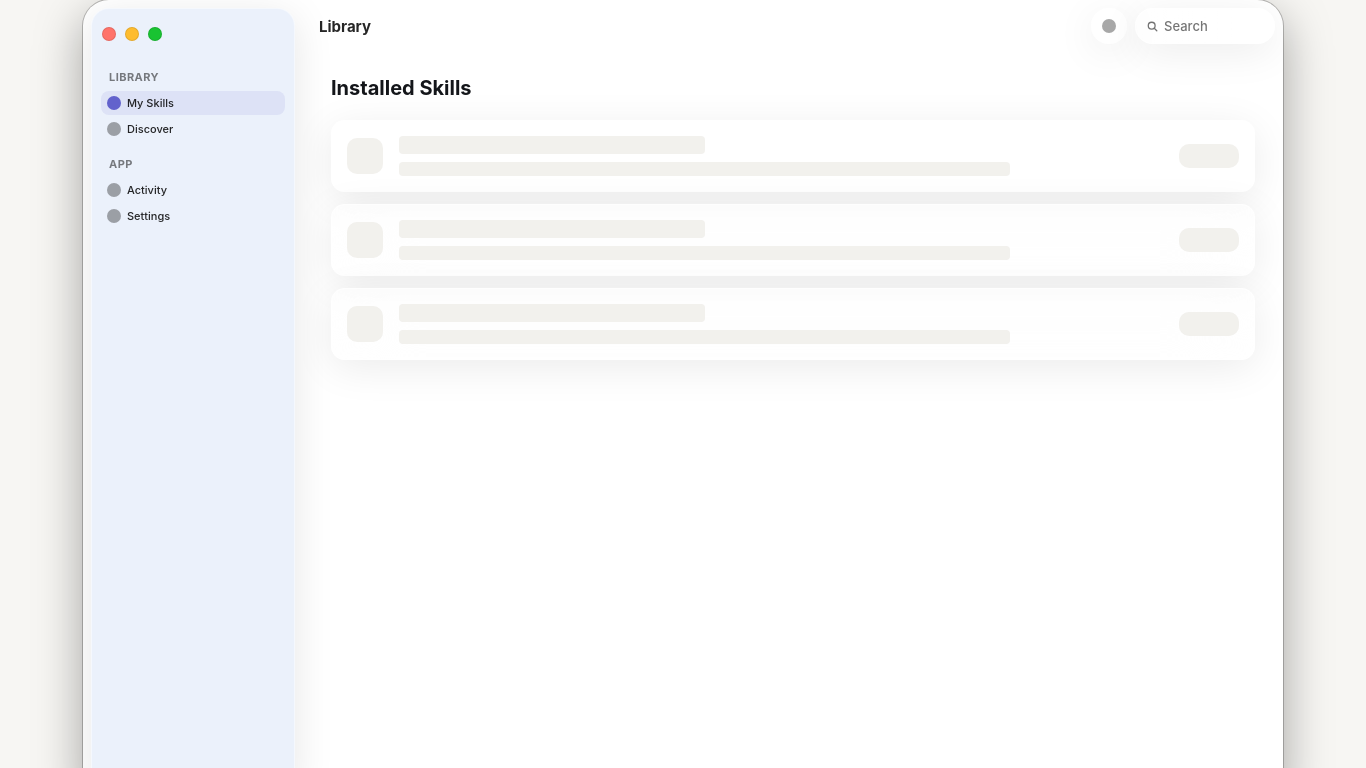
App › switches to discover view and displays registry skills
This screenshot has width=1366, height=768.
Click the button "Discover": (140, 129) [107,122,173,136]
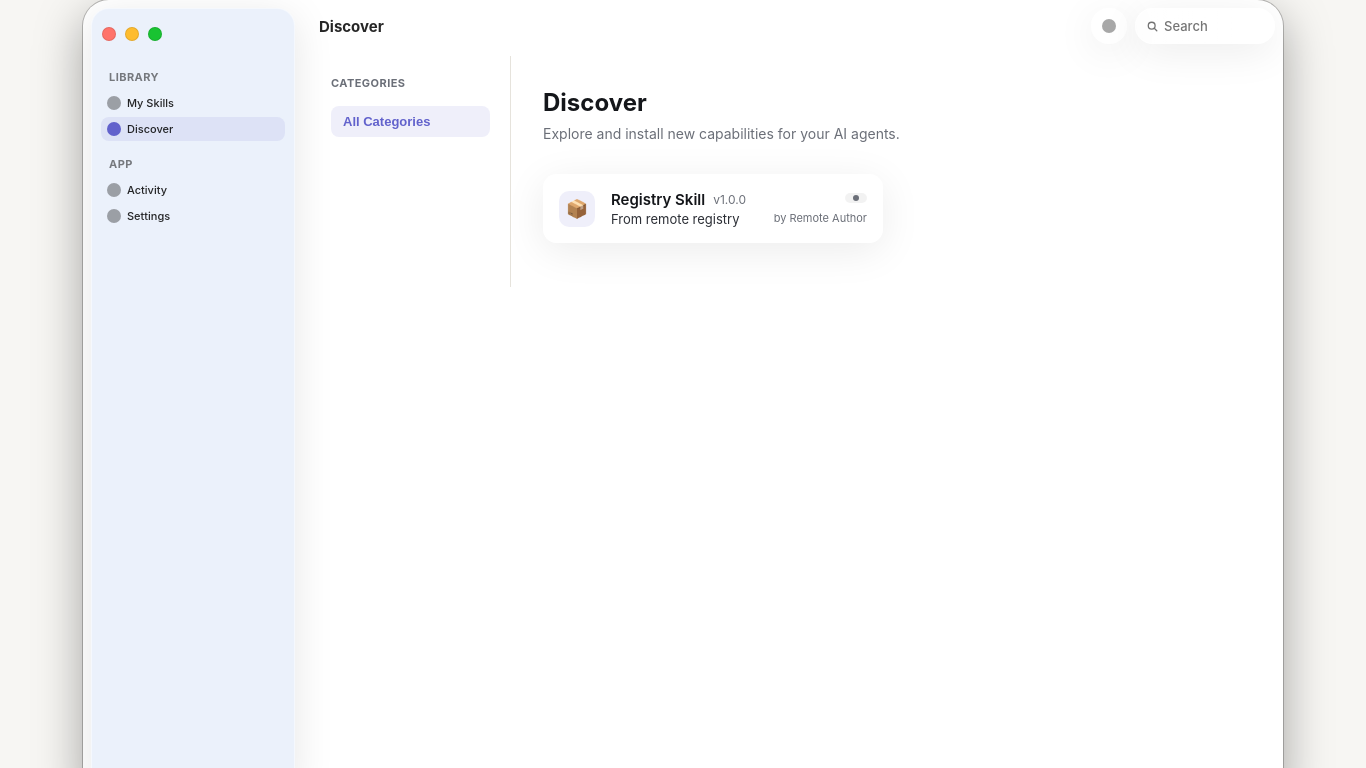
Expected: the text "Explore and install new capabilities for your AI agents." is shown, [543,125,900,142]
Expected: the text "Registry Skill" is shown, [611,190,705,209]
